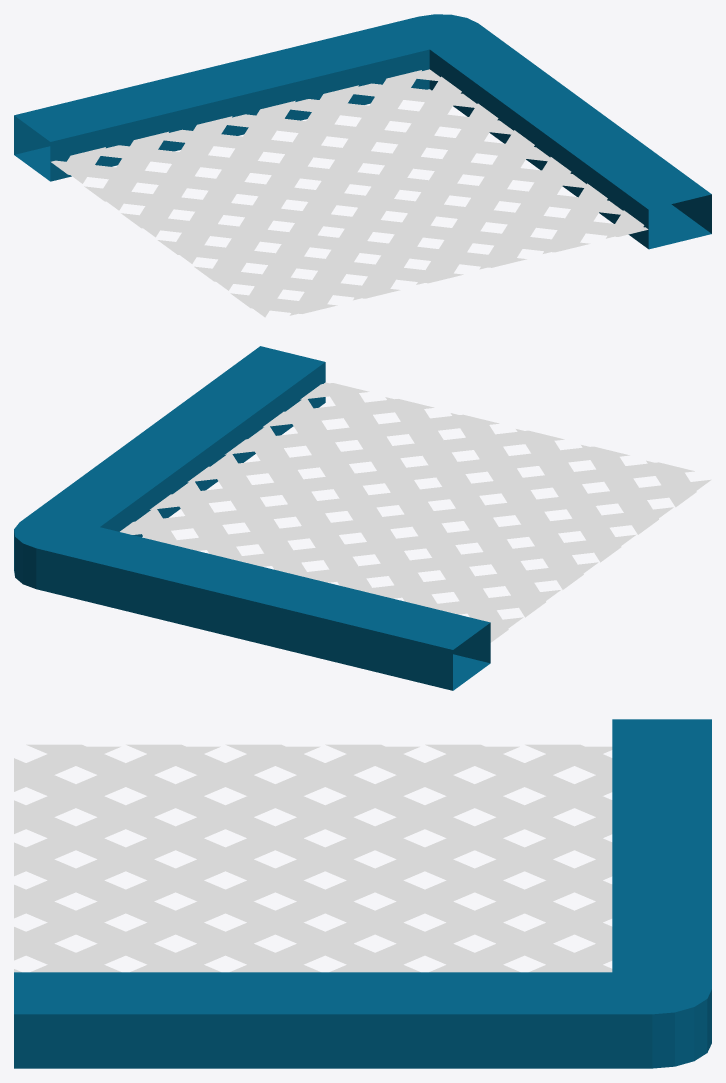
Rendered from G02_018_Floor_Mesh_SD.fbx.
3 renders of one model, top to bottom at view 1: azimuth 30°, elevation 25°; view 2: azimuth 150°, elevation 25°; view 3: azimuth 270°, elevation 25°, orthographic. The views are drawn at different scales.
Parts seen in each view (by area): view 1: 平面.055, 007_Mesh_DS_B; view 2: 平面.055, 007_Mesh_DS_B; view 3: 平面.055, 007_Mesh_DS_B.
Boxes of the visible parts, x1,y1,x2,y2 form: 平面.055: [51, 69, 648, 317]; 007_Mesh_DS_B: [14, 14, 711, 249]; 平面.055: [120, 382, 711, 642]; 007_Mesh_DS_B: [14, 346, 490, 690]; 平面.055: [14, 744, 612, 972]; 007_Mesh_DS_B: [14, 719, 711, 1068].
Bounding box in the file's own units: 350 × 30 × 350.
